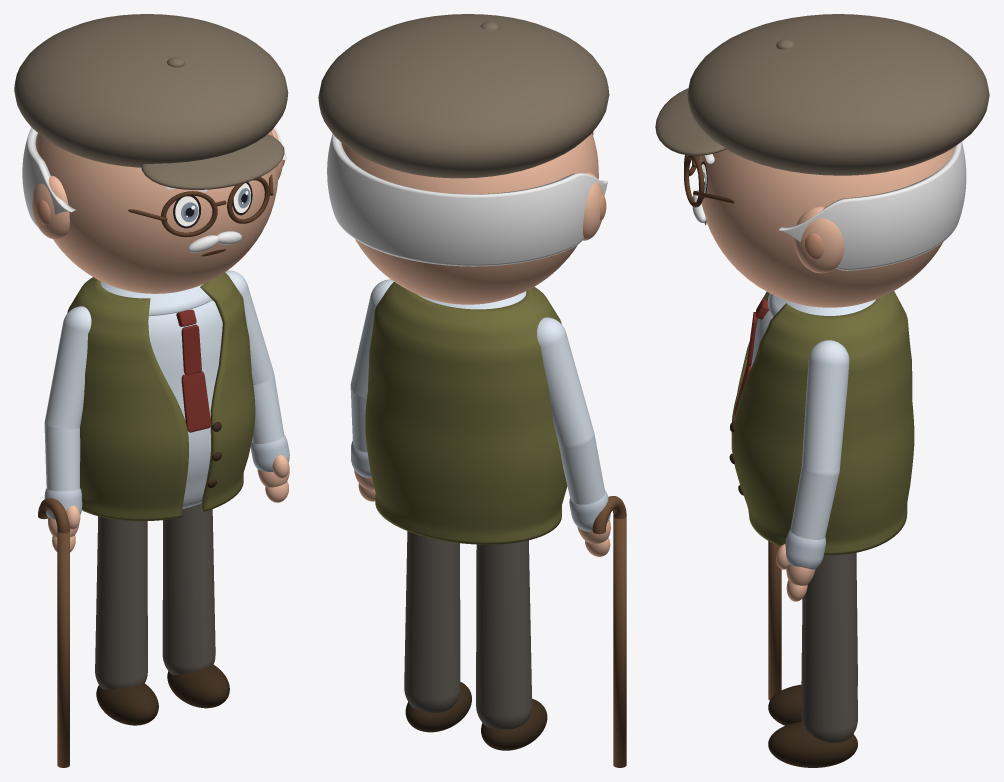
File: opa.glb
3 renders of one model, left to right at view 1: azimuth 30°, elevation 25°; view 2: azimuth 150°, elevation 25°; view 3: azimuth 270°, elevation 25°, orthographic. The views are drawn at different scales.
Visible parts, largest first — view 1: opa_pet, opa_vest, opa_hoofd, opa_been_R, opa_been_L, opa_romp, opa_pet_klep, opa_bovenarm_R, opa_wandelstok, opa_onderarm_R, opa_schoen_R, opa_schoen_L (+12 smaller); view 2: opa_vest, opa_pet, opa_haar, opa_hoofd, opa_been_R, opa_been_L, opa_bovenarm_R, opa_wandelstok, opa_onderarm_R, opa_schoen_R, opa_bovenarm_L, opa_schoen_L (+5 smaller); view 3: opa_pet, opa_vest, opa_hoofd, opa_haar, opa_been_L, opa_bovenarm_L, opa_schoen_L, opa_pet_klep, opa_onderarm_L, opa_wandelstok, opa_oor_L, opa_manchet_L (+3 smaller).
Part boxes in pixels (left/top/right/bottom): opa_pet: left=14, top=14, right=288, bottom=167; opa_vest: left=67, top=272, right=255, bottom=521; opa_hoofd: left=35, top=130, right=278, bottom=293; opa_been_R: left=95, top=516, right=147, bottom=689; opa_been_L: left=162, top=503, right=215, bottom=674; opa_romp: left=148, top=300, right=222, bottom=508; opa_pet_klep: left=141, top=134, right=284, bottom=189; opa_bovenarm_R: left=44, top=306, right=91, bottom=429; opa_wandelstok: left=57, top=531, right=69, bottom=767; opa_onderarm_R: left=44, top=424, right=80, bottom=491; opa_schoen_R: left=96, top=683, right=158, bottom=725; opa_schoen_L: left=167, top=664, right=229, bottom=708; opa_vest: left=365, top=282, right=567, bottom=544; opa_pet: left=318, top=14, right=609, bottom=178; opa_haar: left=327, top=134, right=608, bottom=266; opa_hoofd: left=341, top=133, right=598, bottom=304; opa_been_R: left=476, top=540, right=532, bottom=729; opa_been_L: left=404, top=531, right=460, bottom=712; opa_bovenarm_R: left=537, top=317, right=593, bottom=448; opa_wandelstok: left=613, top=516, right=626, bottom=767; opa_onderarm_R: left=558, top=434, right=604, bottom=504; opa_schoen_R: left=481, top=698, right=547, bottom=750; opa_bovenarm_L: left=351, top=279, right=393, bottom=398; opa_schoen_L: left=405, top=682, right=471, bottom=732; opa_pet: left=687, top=14, right=989, bottom=175; opa_vest: left=731, top=291, right=914, bottom=555; opa_hoofd: left=698, top=147, right=955, bottom=307; opa_haar: left=779, top=141, right=966, bottom=270; opa_been_L: left=801, top=553, right=857, bottom=742; opa_bovenarm_L: left=801, top=340, right=849, bottom=477; opa_schoen_L: left=768, top=721, right=857, bottom=767; opa_pet_klep: left=655, top=88, right=726, bottom=155; opa_onderarm_L: left=790, top=467, right=838, bottom=539; opa_wandelstok: left=768, top=541, right=781, bottom=700; opa_oor_L: left=794, top=206, right=844, bottom=273; opa_manchet_L: left=785, top=530, right=825, bottom=569.
Bounding box in the file's own units: 0.6894 × 1.81 × 0.7632.
